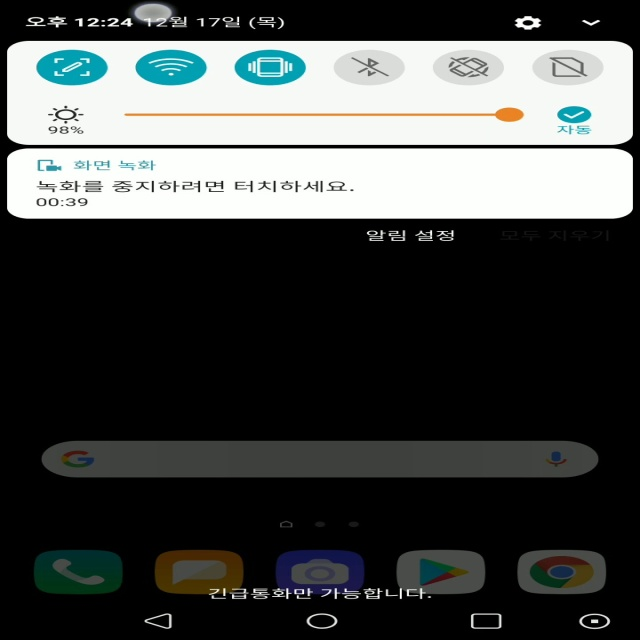Cursor: (130, 1, 175, 24)
